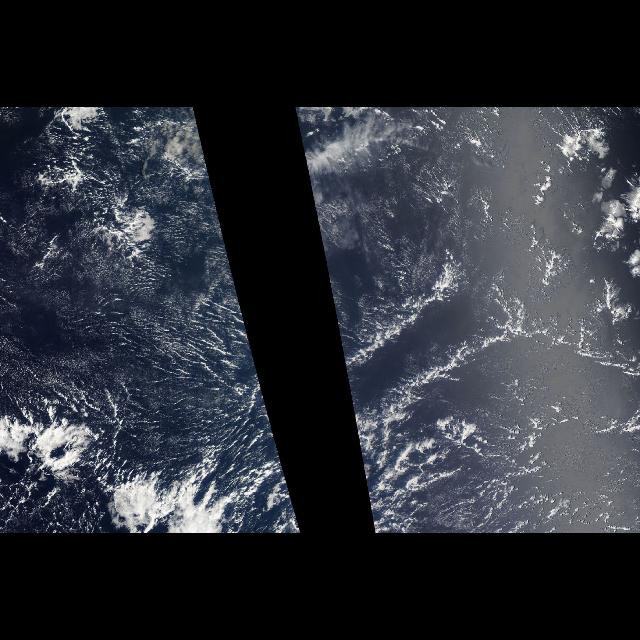Fish: (328, 238, 636, 414)
Flower: (516, 122, 640, 284)
Gravel: (140, 289, 282, 475)
Sugar: (2, 208, 258, 466)
